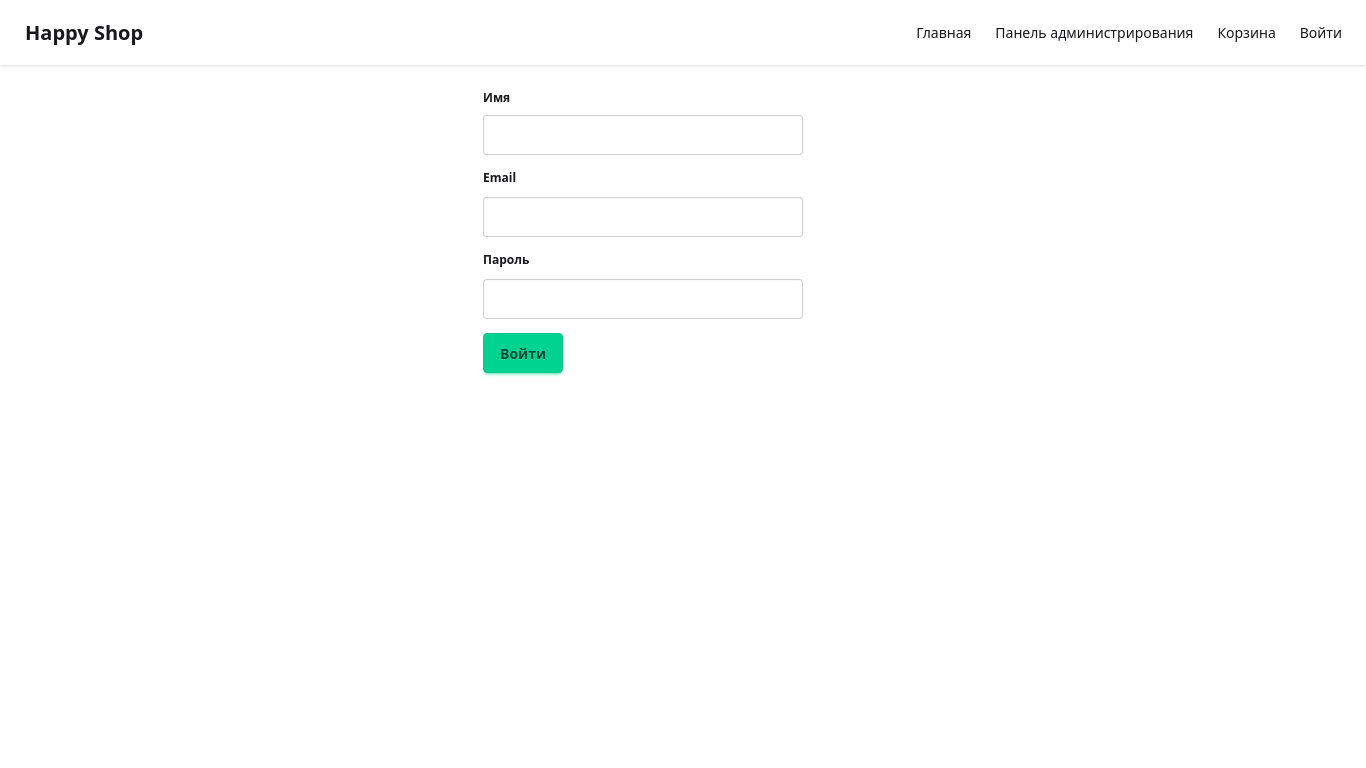
it: Basket testing › empty basket
Type "testuser" into the 1st field. click: (643, 135)
box: [483,115,803,155]
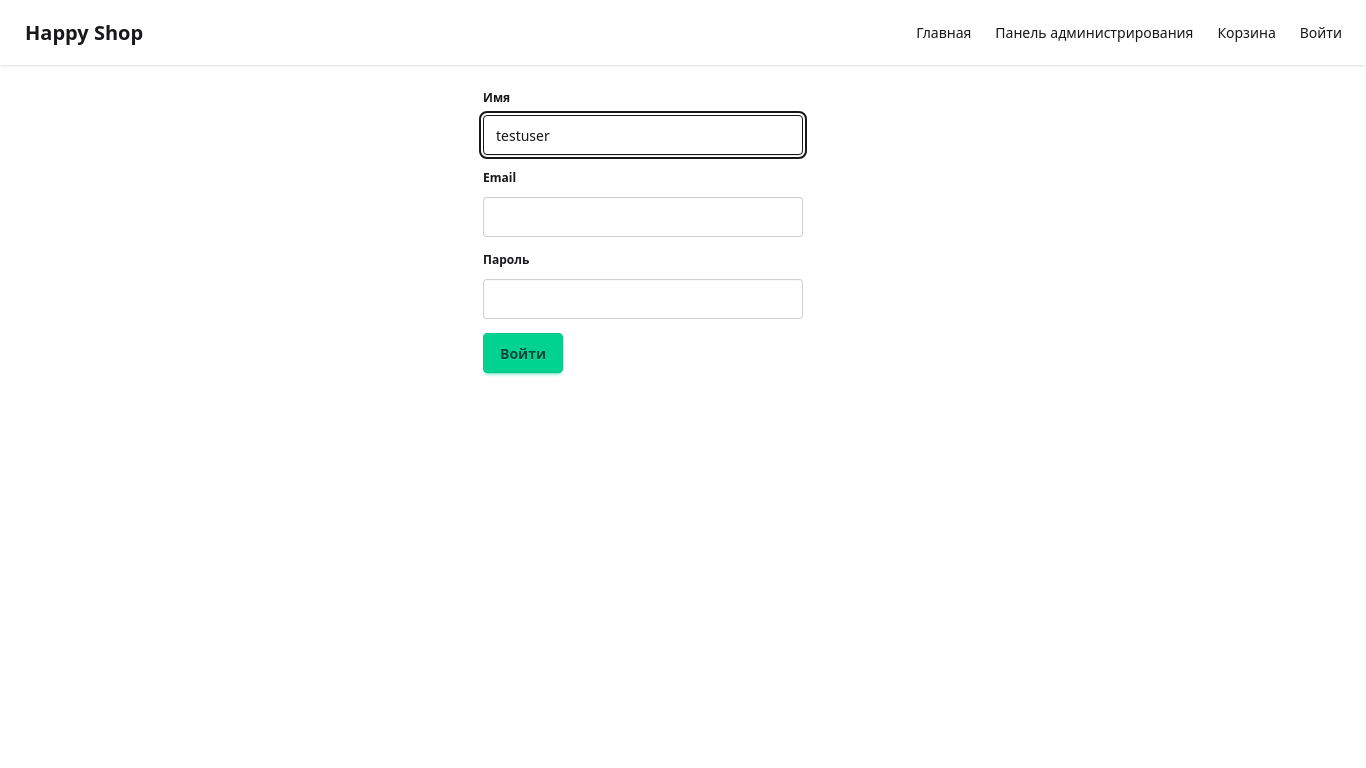
Type "test@example.com" into the 2nd field. click: (643, 217)
box: [483,197,803,237]
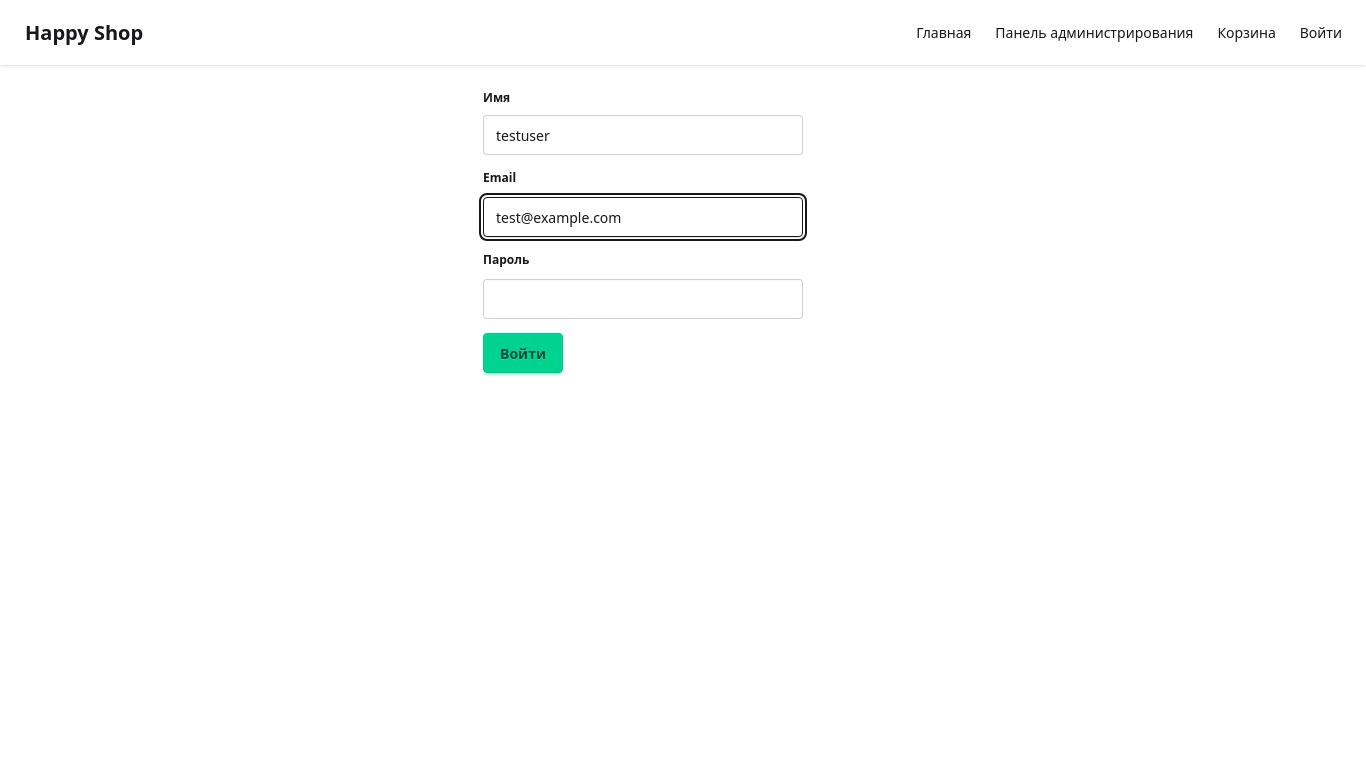
Type "password123" into the password field. click: (643, 299)
box: [483,279,803,319]
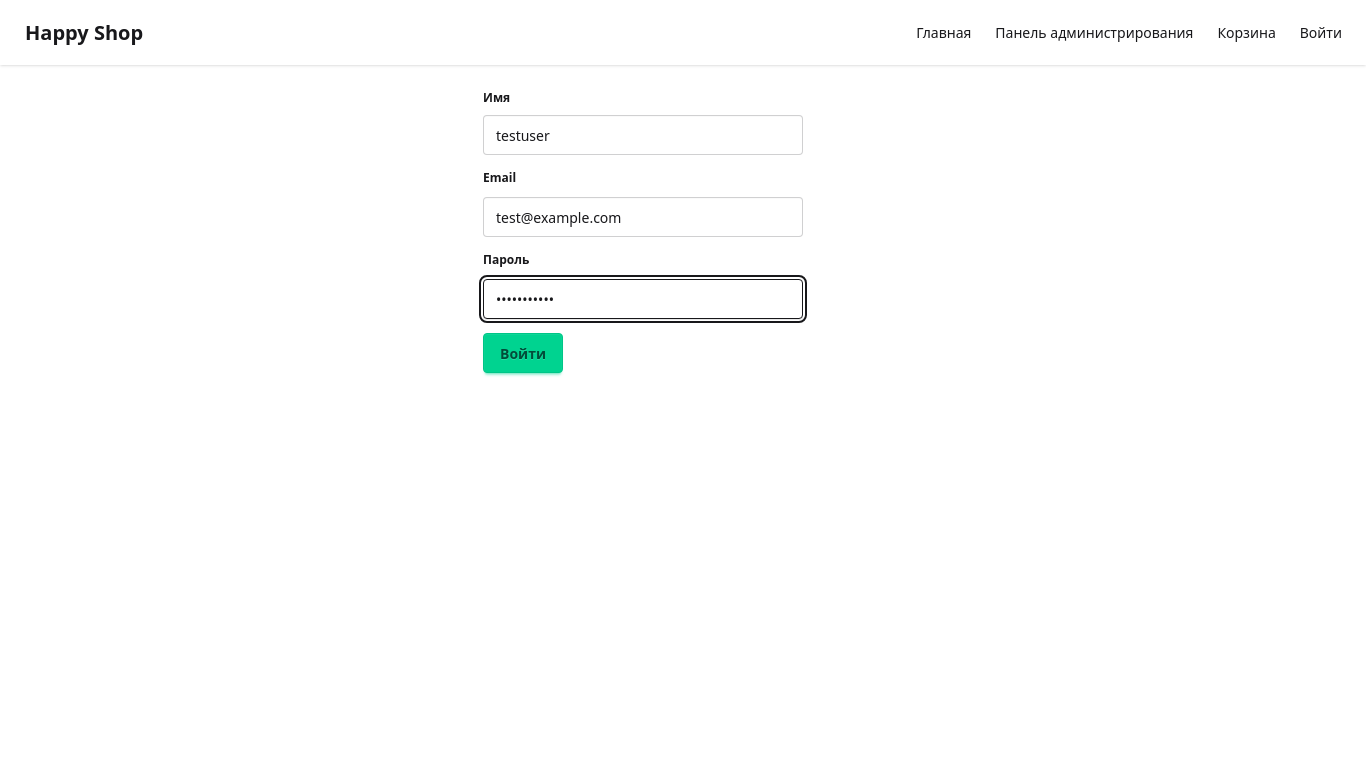
Click the button "Войти". click: (523, 353)
box: [483,333,563,373]
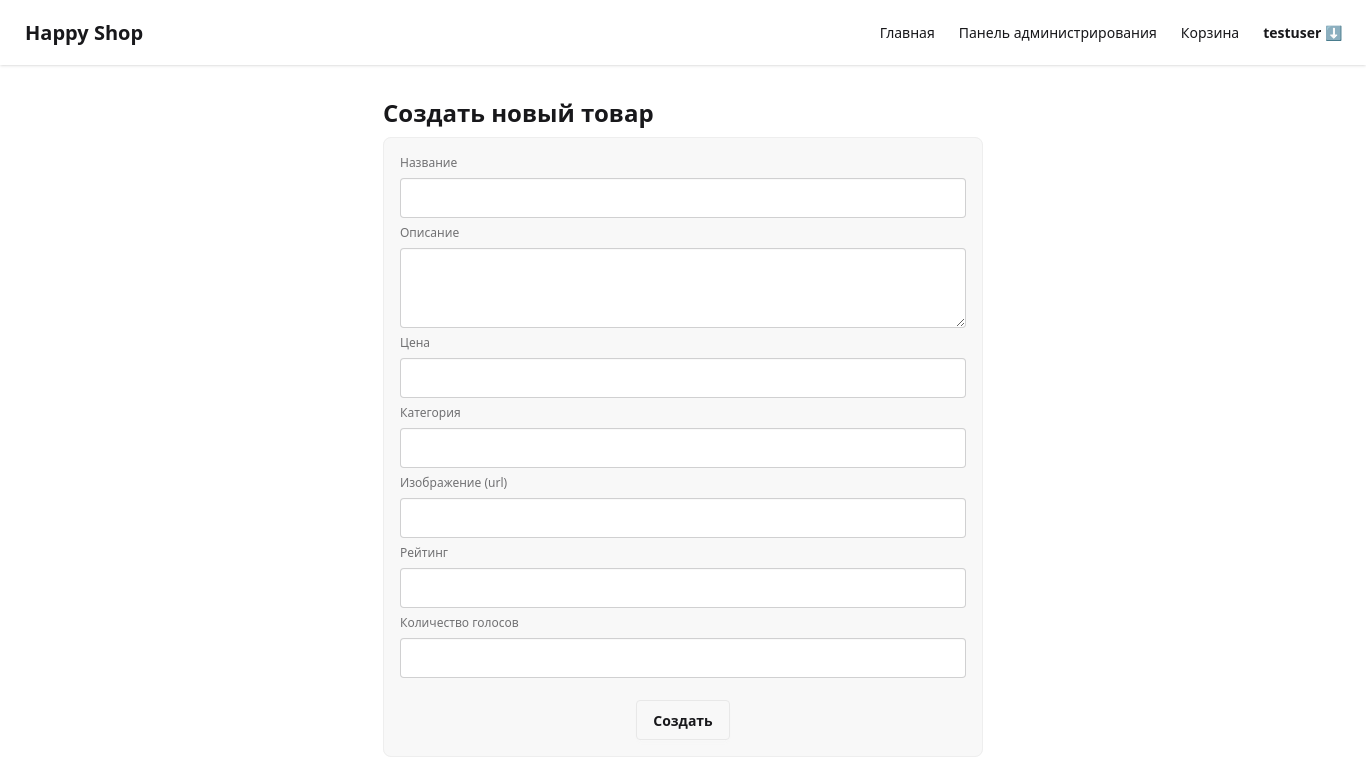
Open "http://localhost:5173/basket"
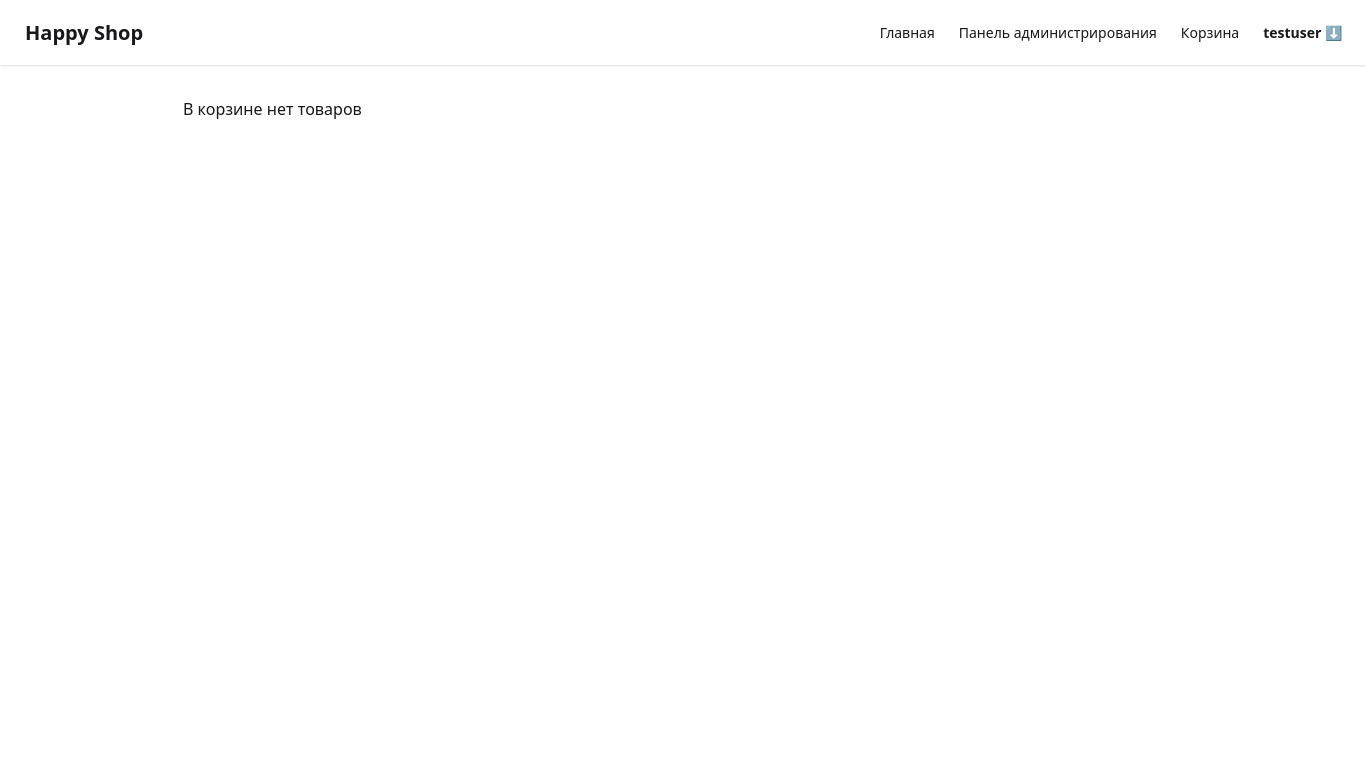
Now the text "В корзине нет товаров" is shown, box [183,98,362,120]
